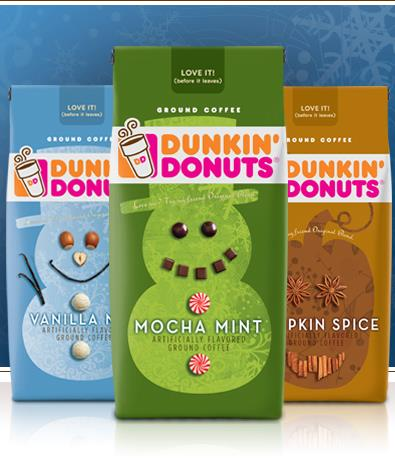Dunkin_Donuts: (114, 111, 284, 179)
